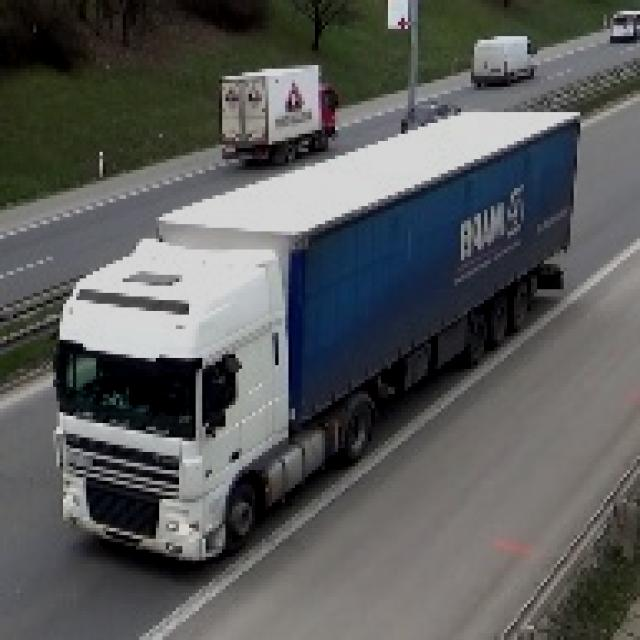TRUCK: (39, 107, 575, 565), (222, 66, 339, 161), (472, 38, 538, 87)
